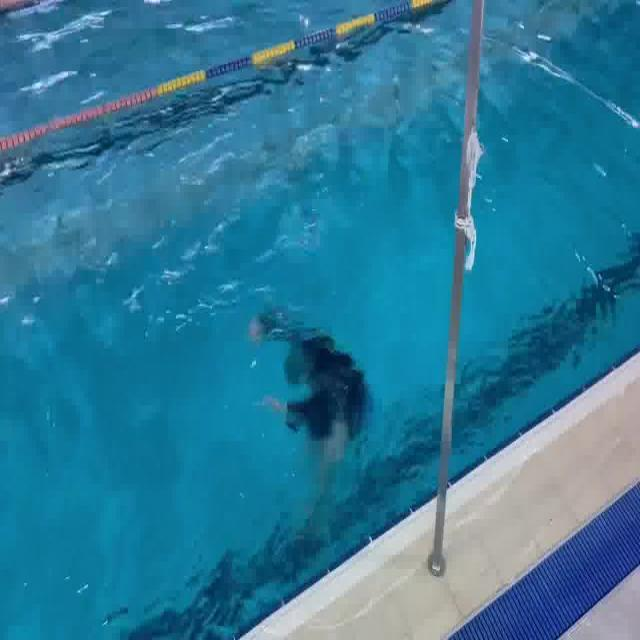drowning: (238, 279, 390, 508)
